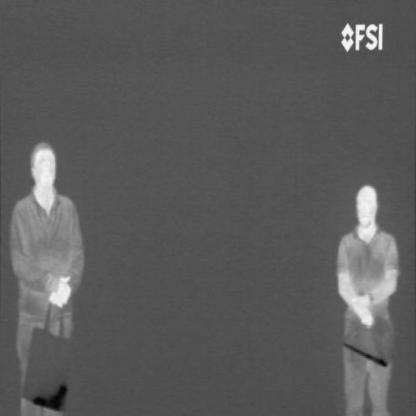weapon: (31, 382, 69, 412)
